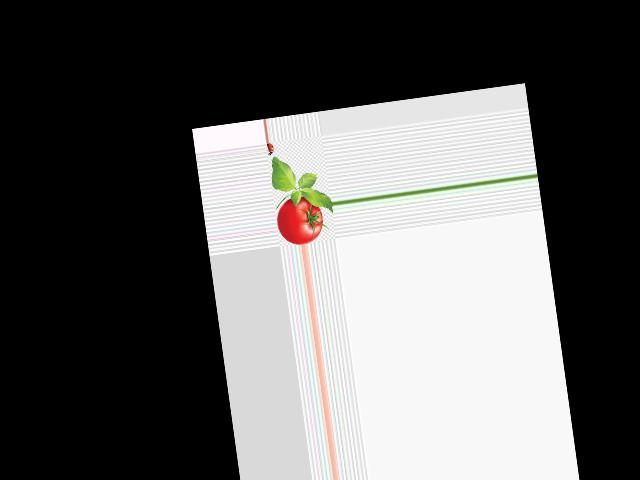tomato: (274, 194, 325, 247)
